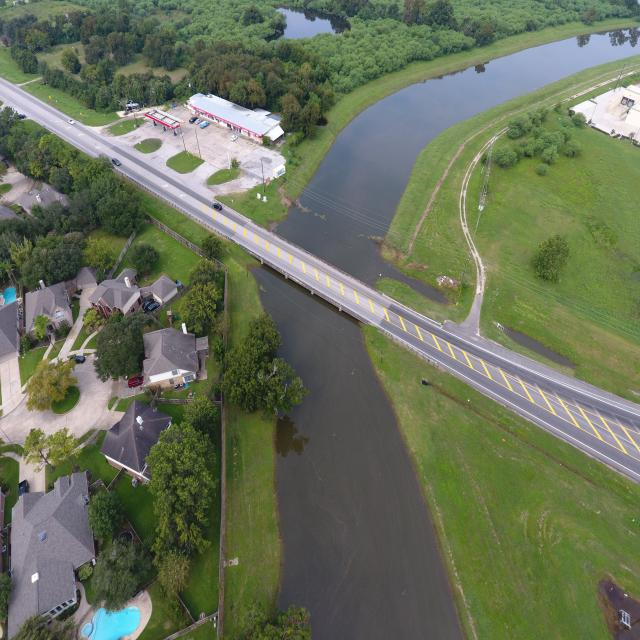fire: (277, 30, 640, 300), (253, 266, 464, 639), (279, 6, 336, 37)
